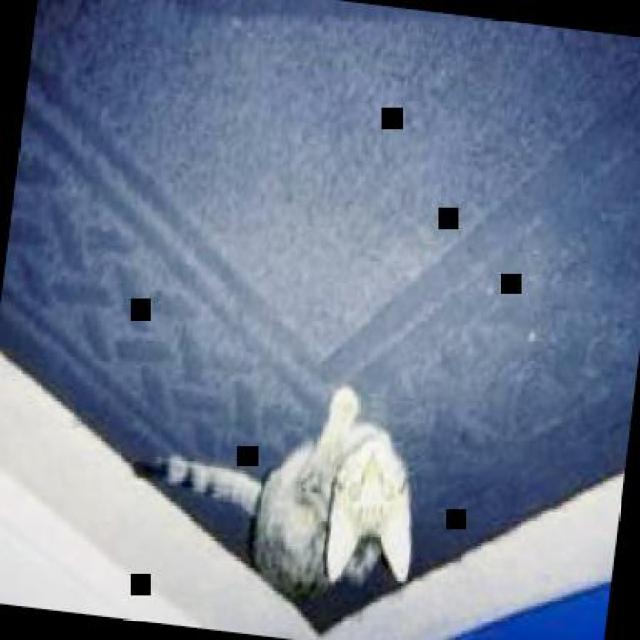cat: (122, 362, 428, 602)
